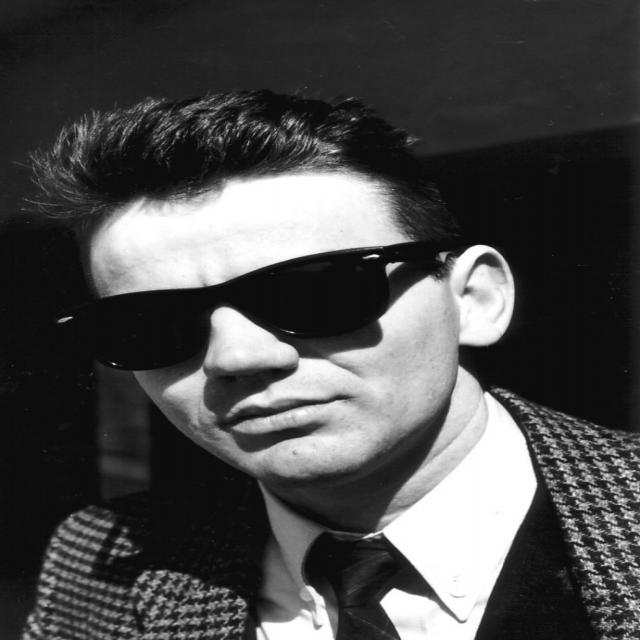Glasses: (81, 224, 502, 364)
